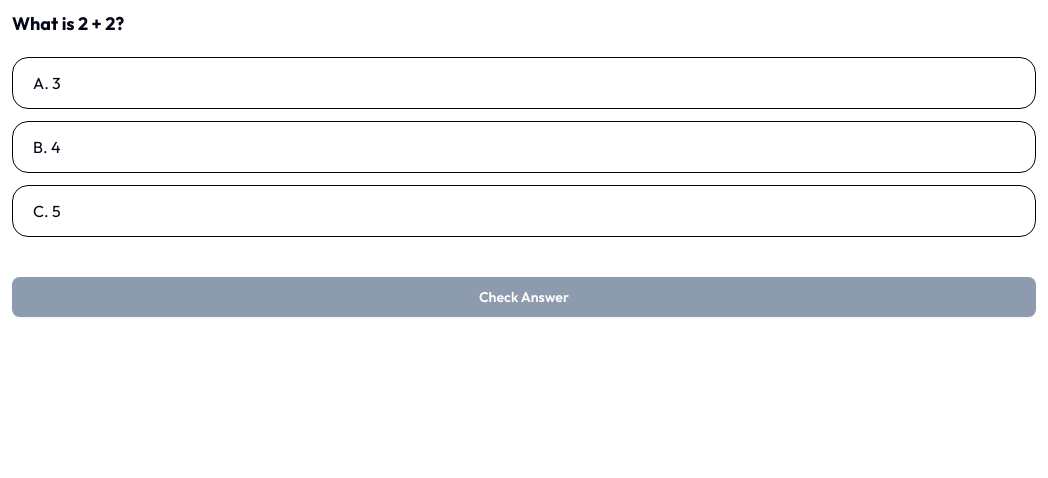
it: QuizInlineViewer — custom feedback › shows explanation after answering incorrectly
The width and height of the screenshot is (1048, 478).
Click the button "A. 3".
click(39, 83)  # box [12,57,1036,109]
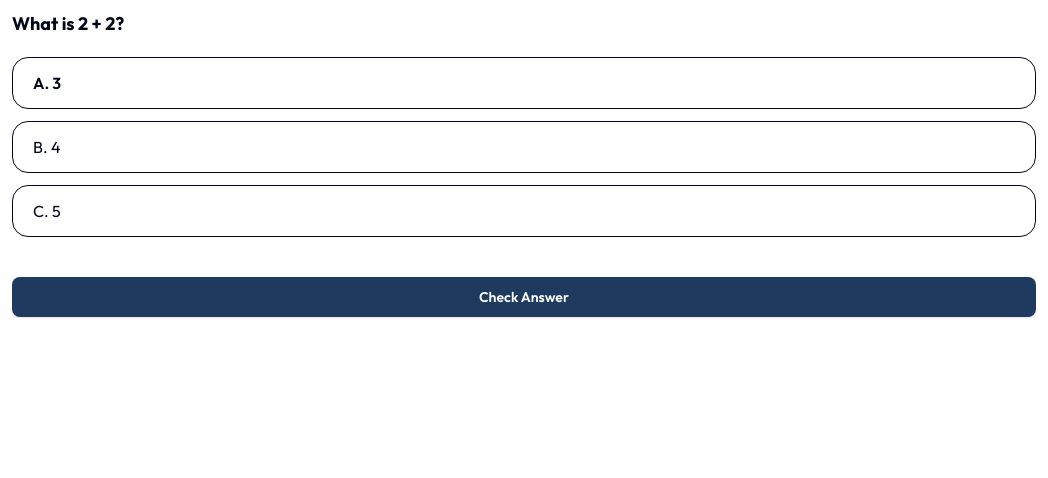
Click the button "Check Answer".
click(524, 297)  # box [12,277,1036,317]
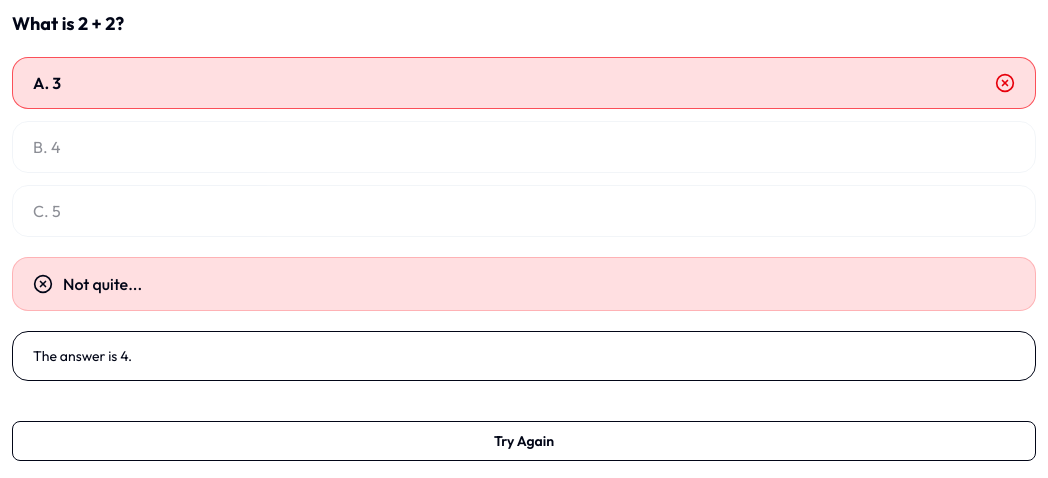
Check: the text "The answer is 4." is shown, box [12,331,1036,381]
